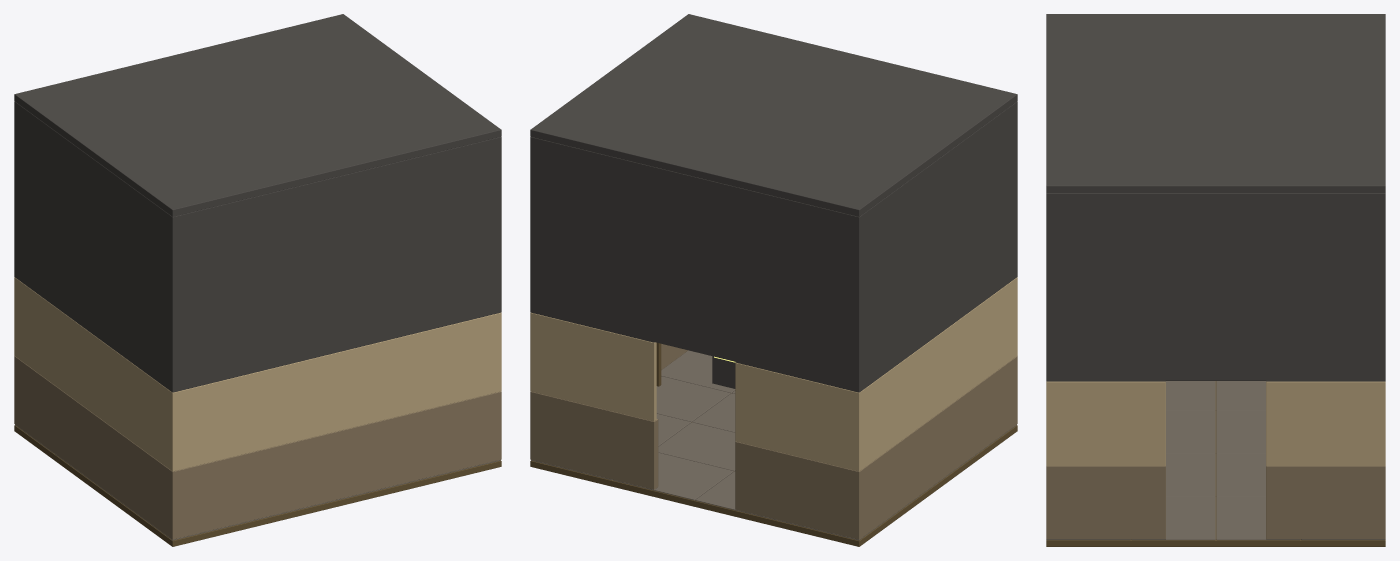
File: gen-engine.glb
The picture shows the model from 3 angles, left to right: view 1: azimuth 30°, elevation 25°; view 2: azimuth 150°, elevation 25°; view 3: azimuth 270°, elevation 25°; orthographic projection. The views are drawn at different scales.
Parts seen in each view (by area): view 1: THE ENGINE GALLERY; view 2: THE ENGINE GALLERY; view 3: THE ENGINE GALLERY.
Part boxes in pixels (bbox=[...]): THE ENGINE GALLERY: bbox=[14, 14, 501, 546]; THE ENGINE GALLERY: bbox=[530, 14, 1017, 546]; THE ENGINE GALLERY: bbox=[1046, 14, 1385, 546].
Size of the model in its own units: 4.8 by 4.7 by 4.
